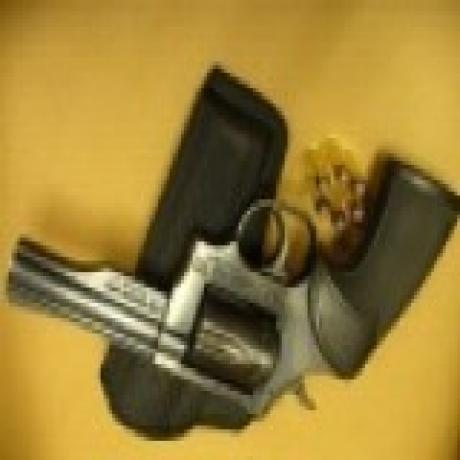weapon: (8, 140, 454, 422)
